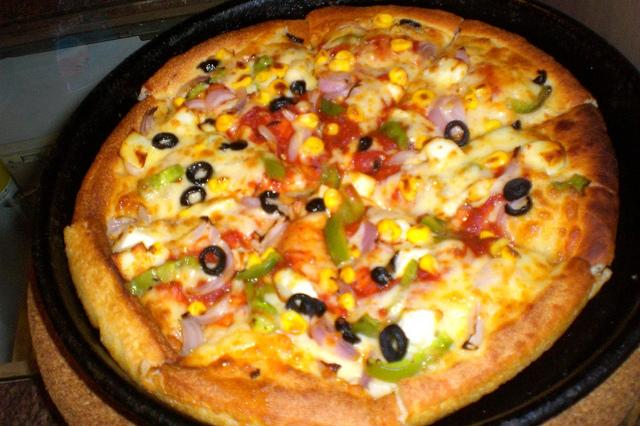bell pepper: (366, 332, 454, 384), (236, 251, 282, 280), (325, 212, 350, 265), (508, 86, 552, 114), (124, 267, 162, 296), (146, 163, 185, 191), (244, 282, 278, 314), (351, 314, 384, 340), (552, 174, 590, 194), (381, 122, 408, 150), (320, 160, 342, 189), (419, 214, 449, 234), (398, 260, 419, 288), (264, 158, 284, 182), (252, 54, 276, 72), (187, 82, 210, 100), (321, 98, 345, 115), (336, 34, 365, 42)
corn: (281, 310, 308, 335), (476, 150, 508, 170), (377, 219, 403, 242), (469, 178, 491, 202), (324, 188, 344, 214), (384, 81, 406, 103), (406, 224, 430, 244), (302, 136, 324, 156), (419, 254, 439, 274), (389, 67, 408, 88), (412, 90, 434, 108), (296, 112, 320, 128), (215, 114, 237, 131), (336, 293, 354, 313), (270, 78, 290, 95), (372, 13, 394, 28), (464, 89, 479, 111), (500, 244, 520, 260), (317, 280, 338, 294), (246, 254, 264, 270), (328, 59, 350, 72), (188, 302, 208, 316), (340, 266, 355, 284), (390, 38, 412, 50), (253, 92, 270, 106), (254, 70, 272, 83), (322, 122, 338, 136), (484, 120, 502, 132), (208, 180, 222, 194), (195, 144, 207, 152)
